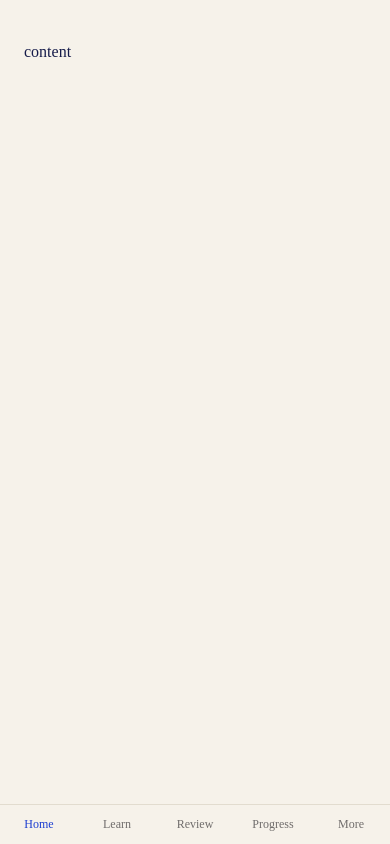
Shell navigation › keeps Modo TDAH two taps from anywhere on a phone: More, then the first item
This screenshot has width=390, height=844.
Click the button "More" at point(351, 824), box [312,805,389,843]
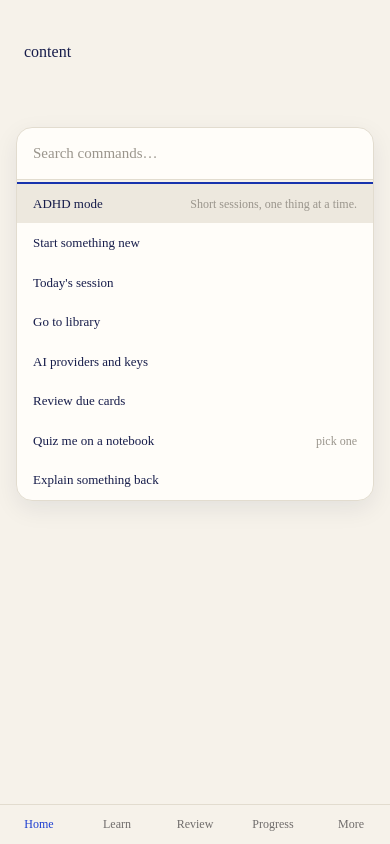
Result: the list item "ADHD mode Short sessions, one thing at a time." is shown at [17,184,373,223]
